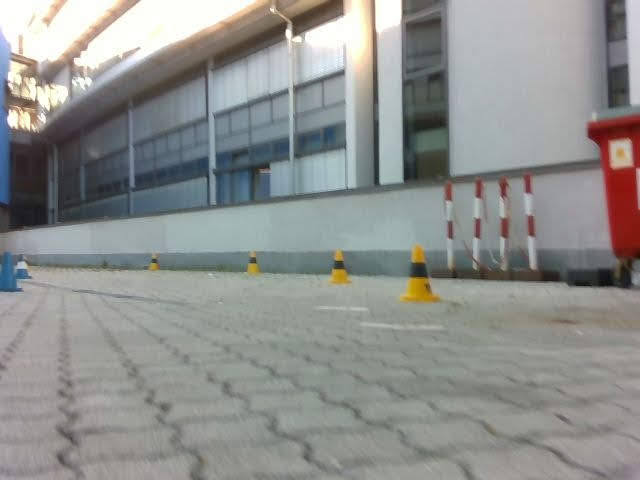cone-blue: (13, 254, 31, 279)
cone-yellow: (400, 244, 440, 303), (327, 249, 352, 285), (246, 250, 260, 274), (148, 253, 161, 271)
